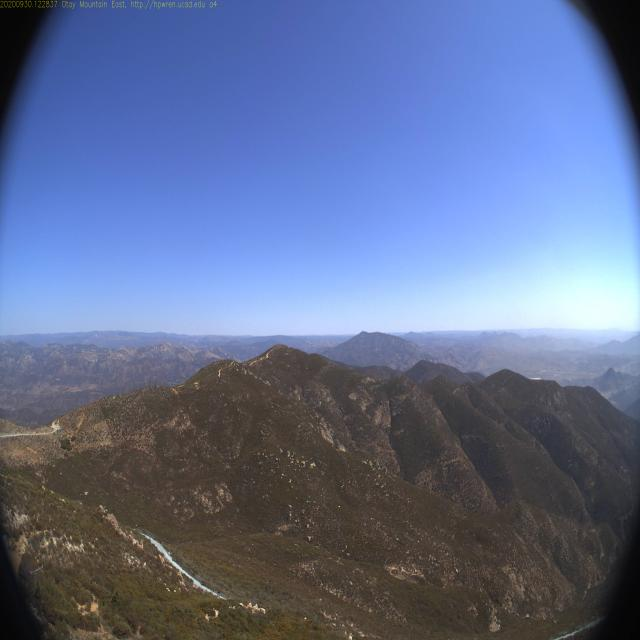smoke: (518, 320, 528, 338)
